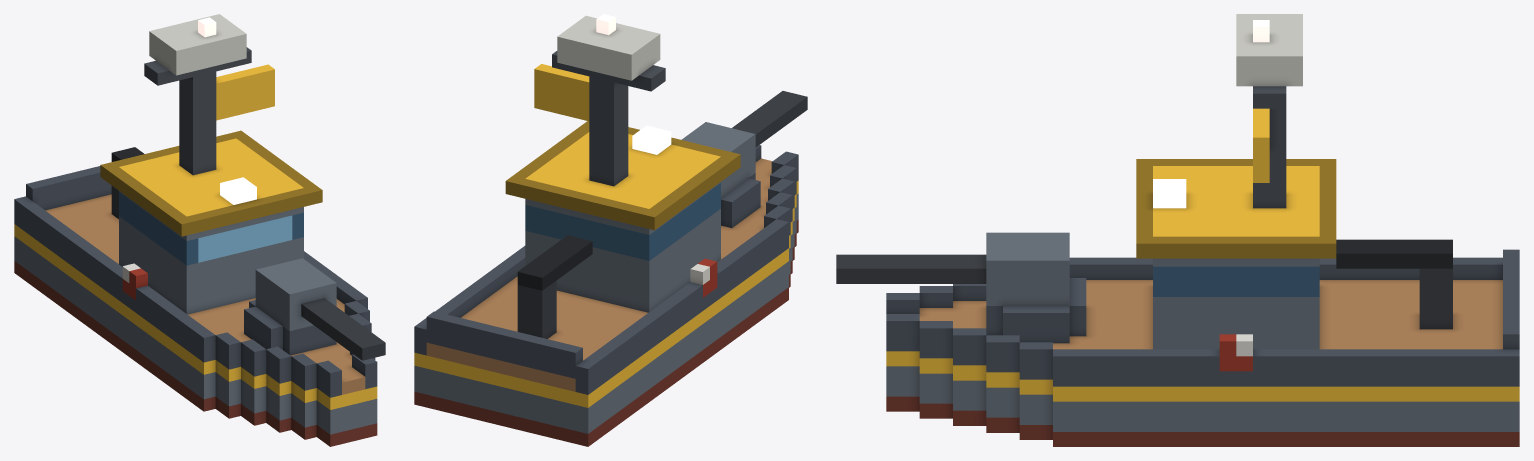
Rendered from cm_gunboat_2.glb.
3 views of the same model, side by side, from view 1: azimuth 30°, elevation 25°; view 2: azimuth 150°, elevation 25°; view 3: azimuth 270°, elevation 25° (orthographic). The views are drawn at different scales.
Parts seen in each view (by area): view 1: cm_gunboat_2_body; view 2: cm_gunboat_2_body; view 3: cm_gunboat_2_body.
Boxes of the visible parts, box(x1,y1,x2,y2) form: cm_gunboat_2_body: box(14, 14, 385, 446); cm_gunboat_2_body: box(414, 14, 807, 446); cm_gunboat_2_body: box(836, 14, 1519, 446).
Bounding box in the file's own units: 0.875 × 1.56 × 2.56.
Materials: 1 (1 with a texture image).
